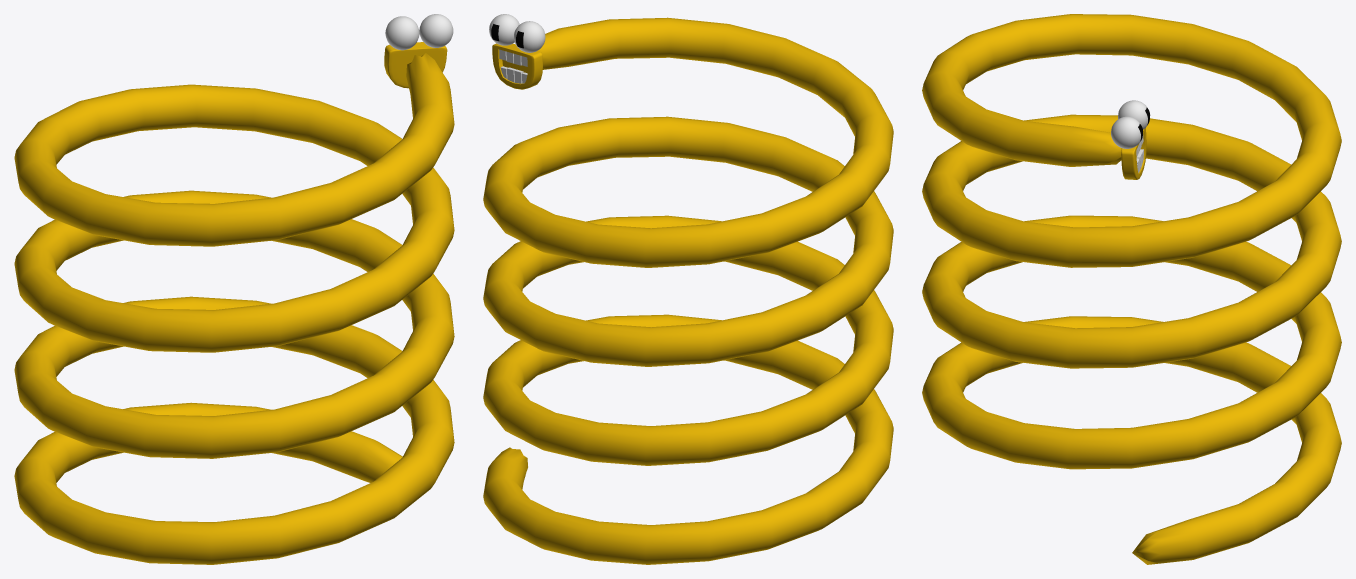
Rendered from tapewormtim_2.fbx.
3 views of the same model, side by side, from view 1: azimuth 30°, elevation 25°; view 2: azimuth 150°, elevation 25°; view 3: azimuth 270°, elevation 25° (orthographic). The views are drawn at different scales.
Visible parts, largest first — view 1: pHelix1, Mouth, L_Eye, R_Eye; view 2: pHelix1, Mouth, L_Eye, R_Eye; view 3: pHelix1, R_Eye, Mouth, L_Eye.
Part boxes in pixels (box(x1,y1,x2,y2)): pHelix1: box(14, 53, 454, 564); Mouth: box(384, 42, 447, 88); L_Eye: box(385, 16, 419, 50); R_Eye: box(419, 14, 453, 47); pHelix1: box(483, 17, 893, 564); Mouth: box(492, 43, 542, 89); L_Eye: box(514, 21, 545, 52); R_Eye: box(489, 14, 519, 45); pHelix1: box(922, 14, 1341, 564); R_Eye: box(1111, 116, 1142, 148); Mouth: box(1121, 128, 1146, 179); L_Eye: box(1118, 100, 1150, 129).
Bounding box in the file's own units: 2 × 2.28 × 1.89.
